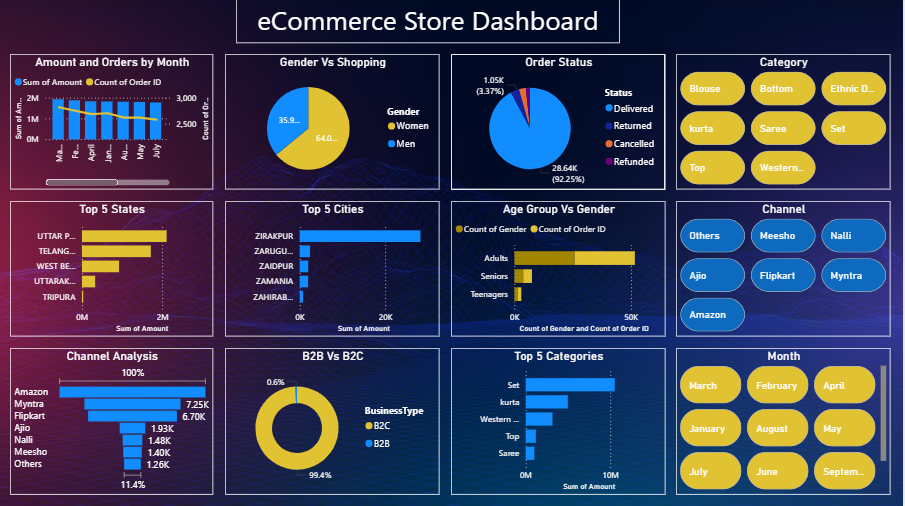

Layout of this report page (visuals, bound fields, positions):
{"tool":"powerbi","page":{"name":"Page 1","canvas":[1280,720],"ordinal":0},"visuals":[{"type":"textbox","box":[336,0,544,64],"z":0},{"type":"lineClusteredColumnComboChart","title":"Amount and Orders by Month","fields":{"Y2":["CountNonNull(MyStore.Order ID)"],"Category":["MyStore.Month"],"Y":["Sum(MyStore.Amount)"]},"box":[16,80,288,192],"z":1000},{"type":"advancedSlicerVisual","title":"Month","fields":{"Values":["MyStore.Month"]},"box":[960,496,304,208],"z":2000},{"type":"barChart","title":"Age Group Vs Gender","fields":{"Y":["CountNonNull(MyStore.Gender)","CountNonNull(MyStore.Order ID)"],"Category":["MyStore.AgeGroup"]},"box":[640,288,304,192],"z":3000},{"type":"donutChart","title":"B2B Vs B2C","fields":{"Y":["CountNonNull(MyStore.Order ID)"],"Category":["MyStore.BusinessType"]},"box":[320,496,304,208],"z":4000},{"type":"advancedSlicerVisual","title":"Channel","fields":{"Values":["MyStore.Channel "]},"box":[960,288,304,192],"z":5000},{"type":"funnel","title":"Channel Analysis","fields":{"Y":["CountNonNull(MyStore.Order ID)"],"Category":["MyStore.Channel "]},"box":[16,496,288,208],"z":6000},{"type":"advancedSlicerVisual","title":"Category","fields":{"Values":["MyStore.Category"]},"box":[960,80,304,192],"z":7000},{"type":"clusteredBarChart","title":" Top 5 Categories","fields":{"Category":["MyStore.Category"],"Y":["Sum(MyStore.Amount)"]},"box":[640,496,304,208],"z":8000},{"type":"clusteredBarChart","title":"Top 5 Cities","fields":{"Category":["MyStore.ship-city"],"Y":["Sum(MyStore.Amount)"]},"box":[320,288,304,192],"z":9000},{"type":"pieChart","title":"Gender Vs Shopping","fields":{"Category":["MyStore.Gender"],"Y":["Sum(MyStore.Amount)"]},"box":[320,80,304,192],"z":10000},{"type":"pieChart","title":"Order Status","fields":{"Category":["MyStore.Status"],"Y":["CountNonNull(MyStore.Order ID)"]},"box":[640,80,304,192],"z":11000},{"type":"barChart","title":"Top 5 States","fields":{"Category":["MyStore.ship-state"],"Y":["Sum(MyStore.Amount)"]},"box":[16,288,288,192],"z":12000}]}

Visuals, with their boxes in screenshot pixels (x1, y1, x2, y2), scaled from the page's 1280x720 canvas onto the 905x506 screenshot:
textbox: left=238, top=0, right=622, bottom=45
"Amount and Orders by Month" lineClusteredColumnComboChart: left=11, top=56, right=215, bottom=191
"Month" advancedSlicerVisual: left=679, top=349, right=894, bottom=495
"Age Group Vs Gender" barChart: left=452, top=202, right=667, bottom=337
"B2B Vs B2C" donutChart: left=226, top=349, right=441, bottom=495
"Channel" advancedSlicerVisual: left=679, top=202, right=894, bottom=337
"Channel Analysis" funnel: left=11, top=349, right=215, bottom=495
"Category" advancedSlicerVisual: left=679, top=56, right=894, bottom=191
" Top 5 Categories" clusteredBarChart: left=452, top=349, right=667, bottom=495
"Top 5 Cities" clusteredBarChart: left=226, top=202, right=441, bottom=337
"Gender Vs Shopping" pieChart: left=226, top=56, right=441, bottom=191
"Order Status" pieChart: left=452, top=56, right=667, bottom=191
"Top 5 States" barChart: left=11, top=202, right=215, bottom=337
